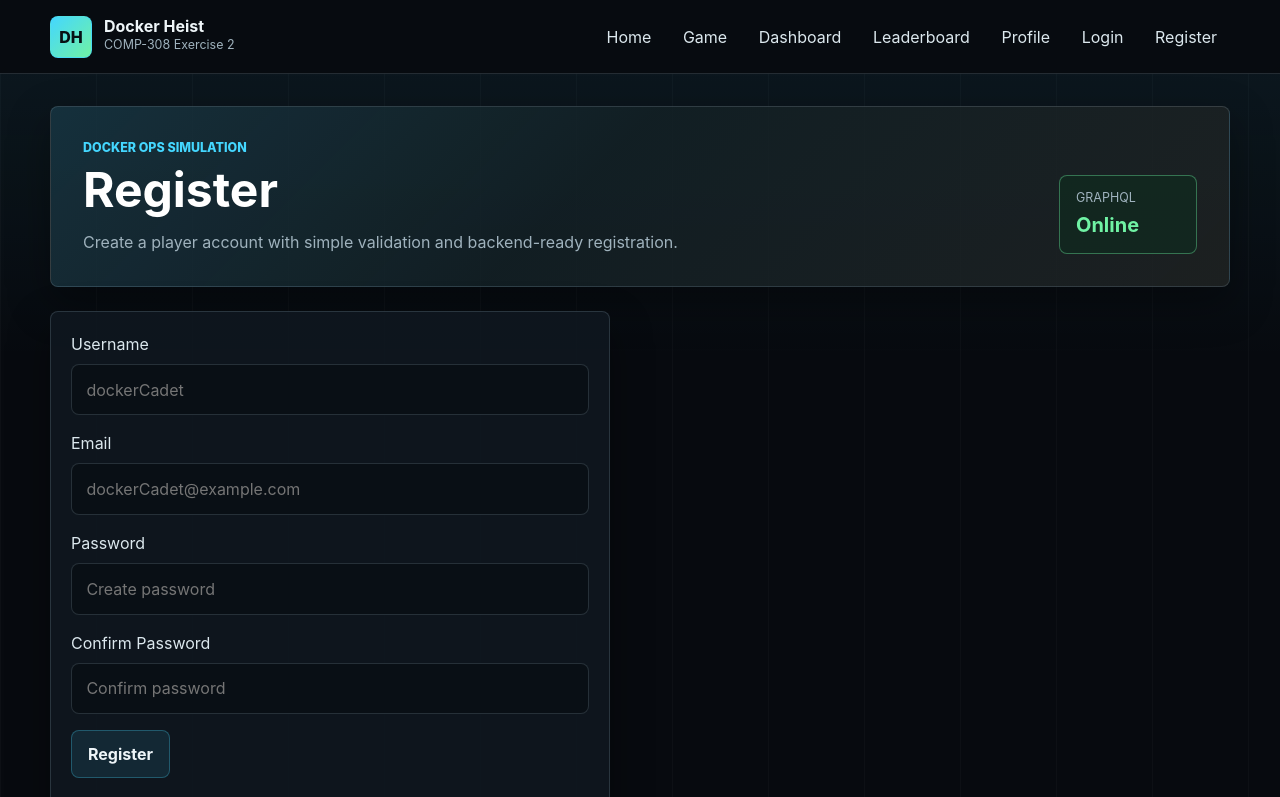
it: RegisterPage › shows validation errors for empty fields
Step 1. Click the button "Register" → click(120, 754), box [71,730,170,778]
(page scrolled)
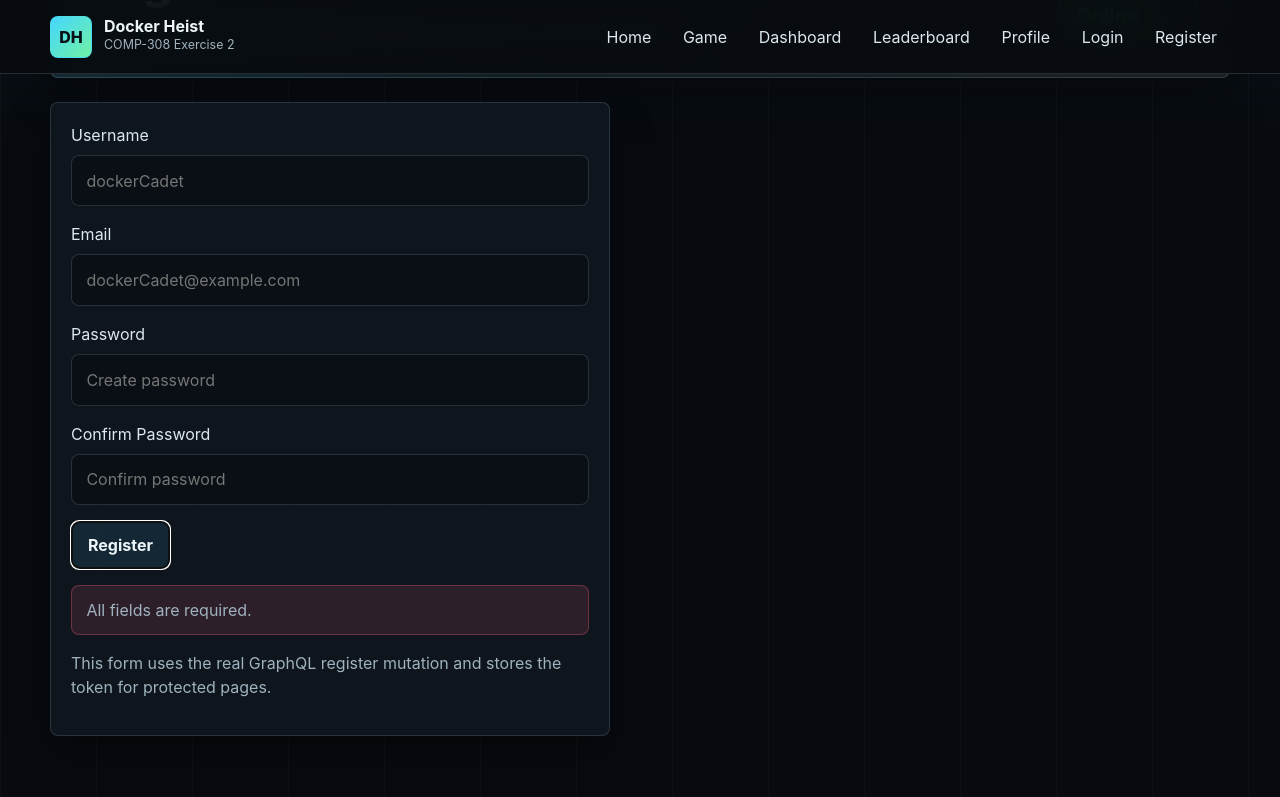
Expected: the message reads "All fields are required.", [86,600,252,620]
